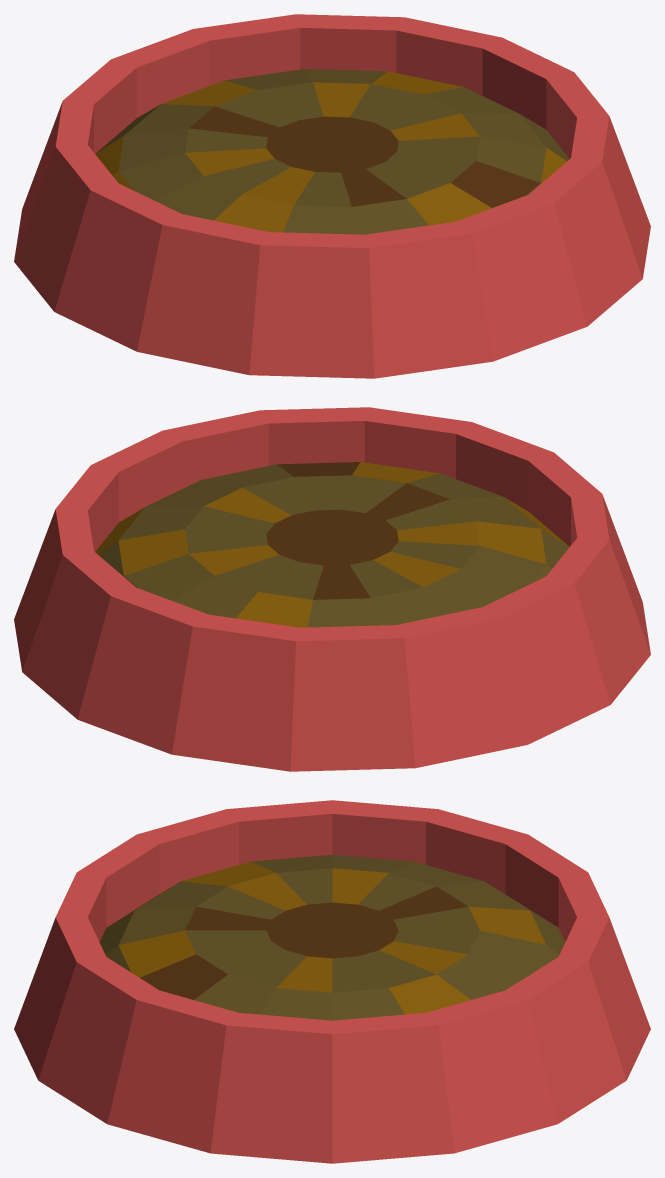
The model's file is foodbowl.fbx.
3 views of the same model, one above another, from view 1: azimuth 30°, elevation 25°; view 2: azimuth 150°, elevation 25°; view 3: azimuth 270°, elevation 25° (orthographic).
Visible parts, largest first — view 1: foodbowl; view 2: foodbowl; view 3: foodbowl.
Part boxes in pixels (bbox=[...]): foodbowl: bbox=[14, 14, 650, 378]; foodbowl: bbox=[14, 407, 650, 771]; foodbowl: bbox=[14, 800, 650, 1163].
Size of the model in its own units: 0.5981 by 0.1159 by 0.5981.
